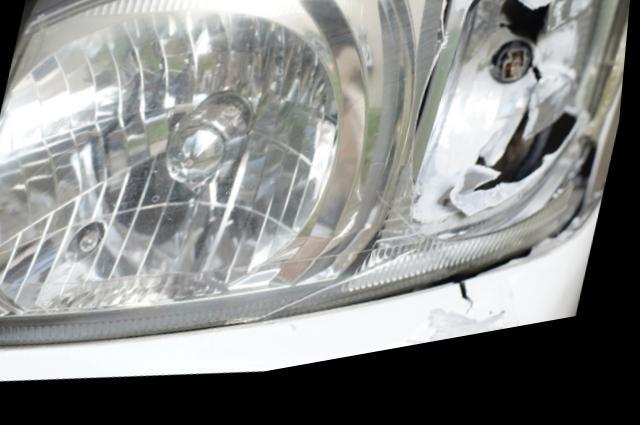crack: (466, 300, 480, 332)
lamp broken: (0, 0, 634, 346)
scratch: (411, 319, 521, 363)
